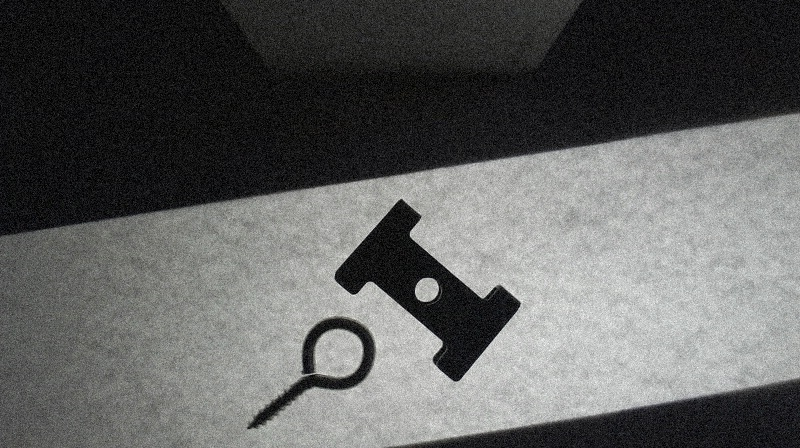O001: (241, 316, 379, 431)
O002: (334, 196, 531, 383)
